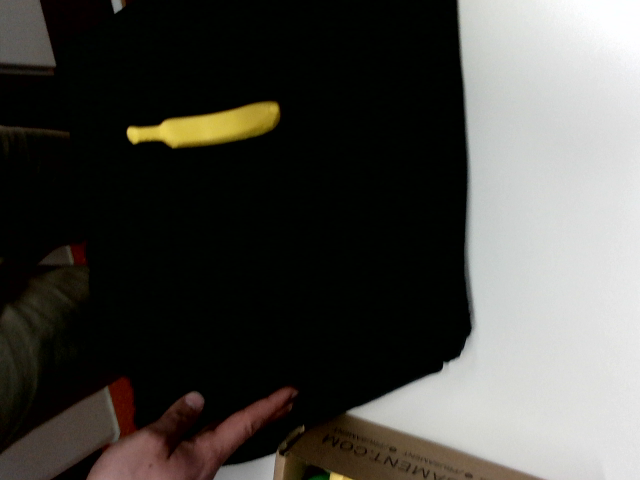banana: (125, 99, 283, 158), (330, 472, 350, 479)
